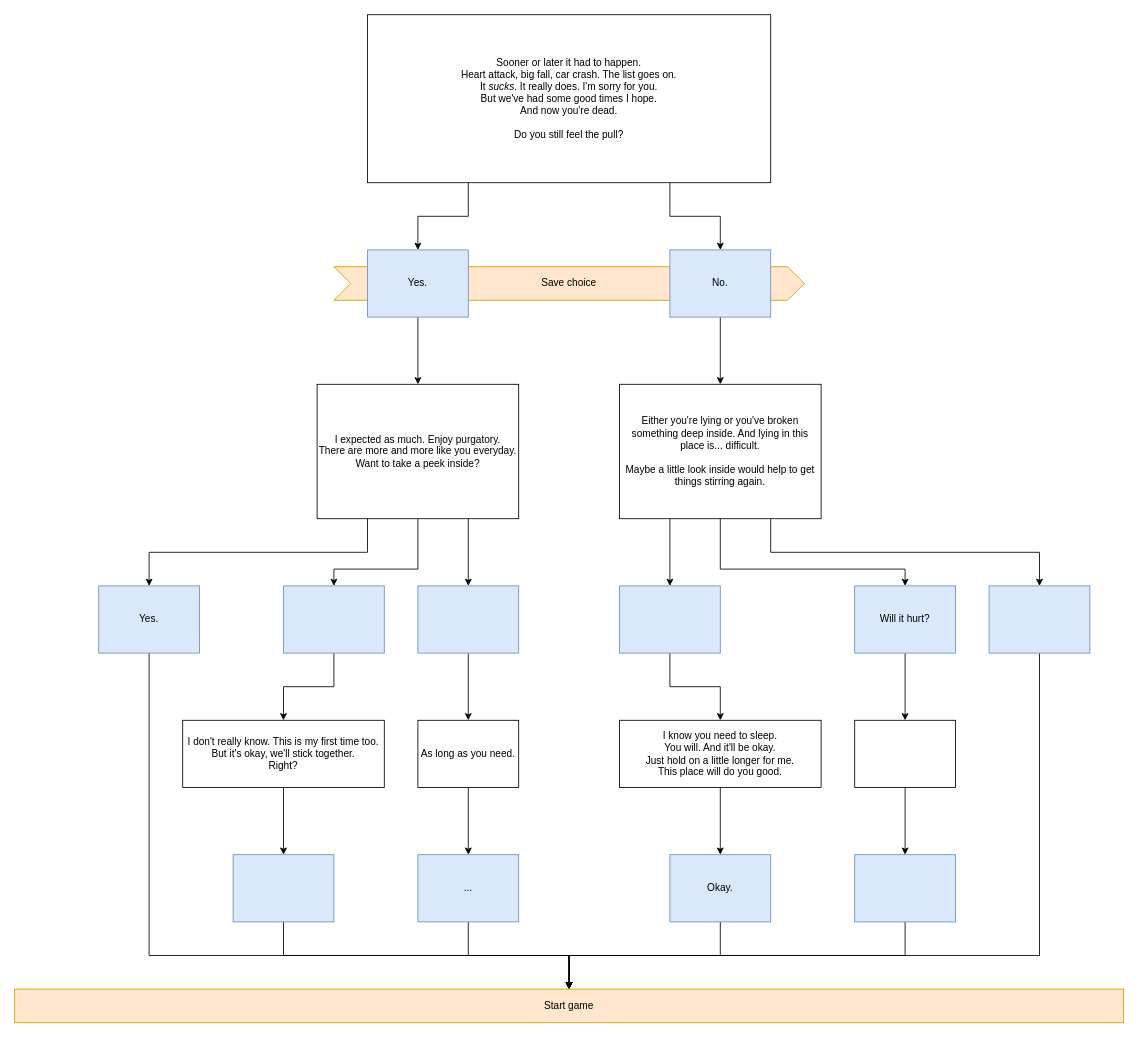
This 1138x1037 diagram has some shape labels left out. Each missing label, with the centre of its shape:
A lot.: the point at 905,753
Bring it on.: the point at 905,888
How long do I have to be here?: the point at 468,619
I can't go back.: the point at 669,619
Let me in.: the point at 1039,619
Right.: the point at 283,888
What's inside?: the point at 333,619
